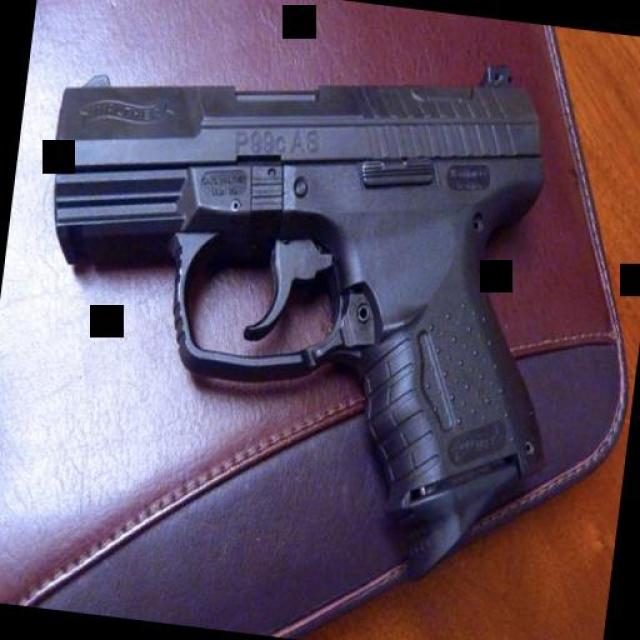gun: (5, 8, 591, 598)
